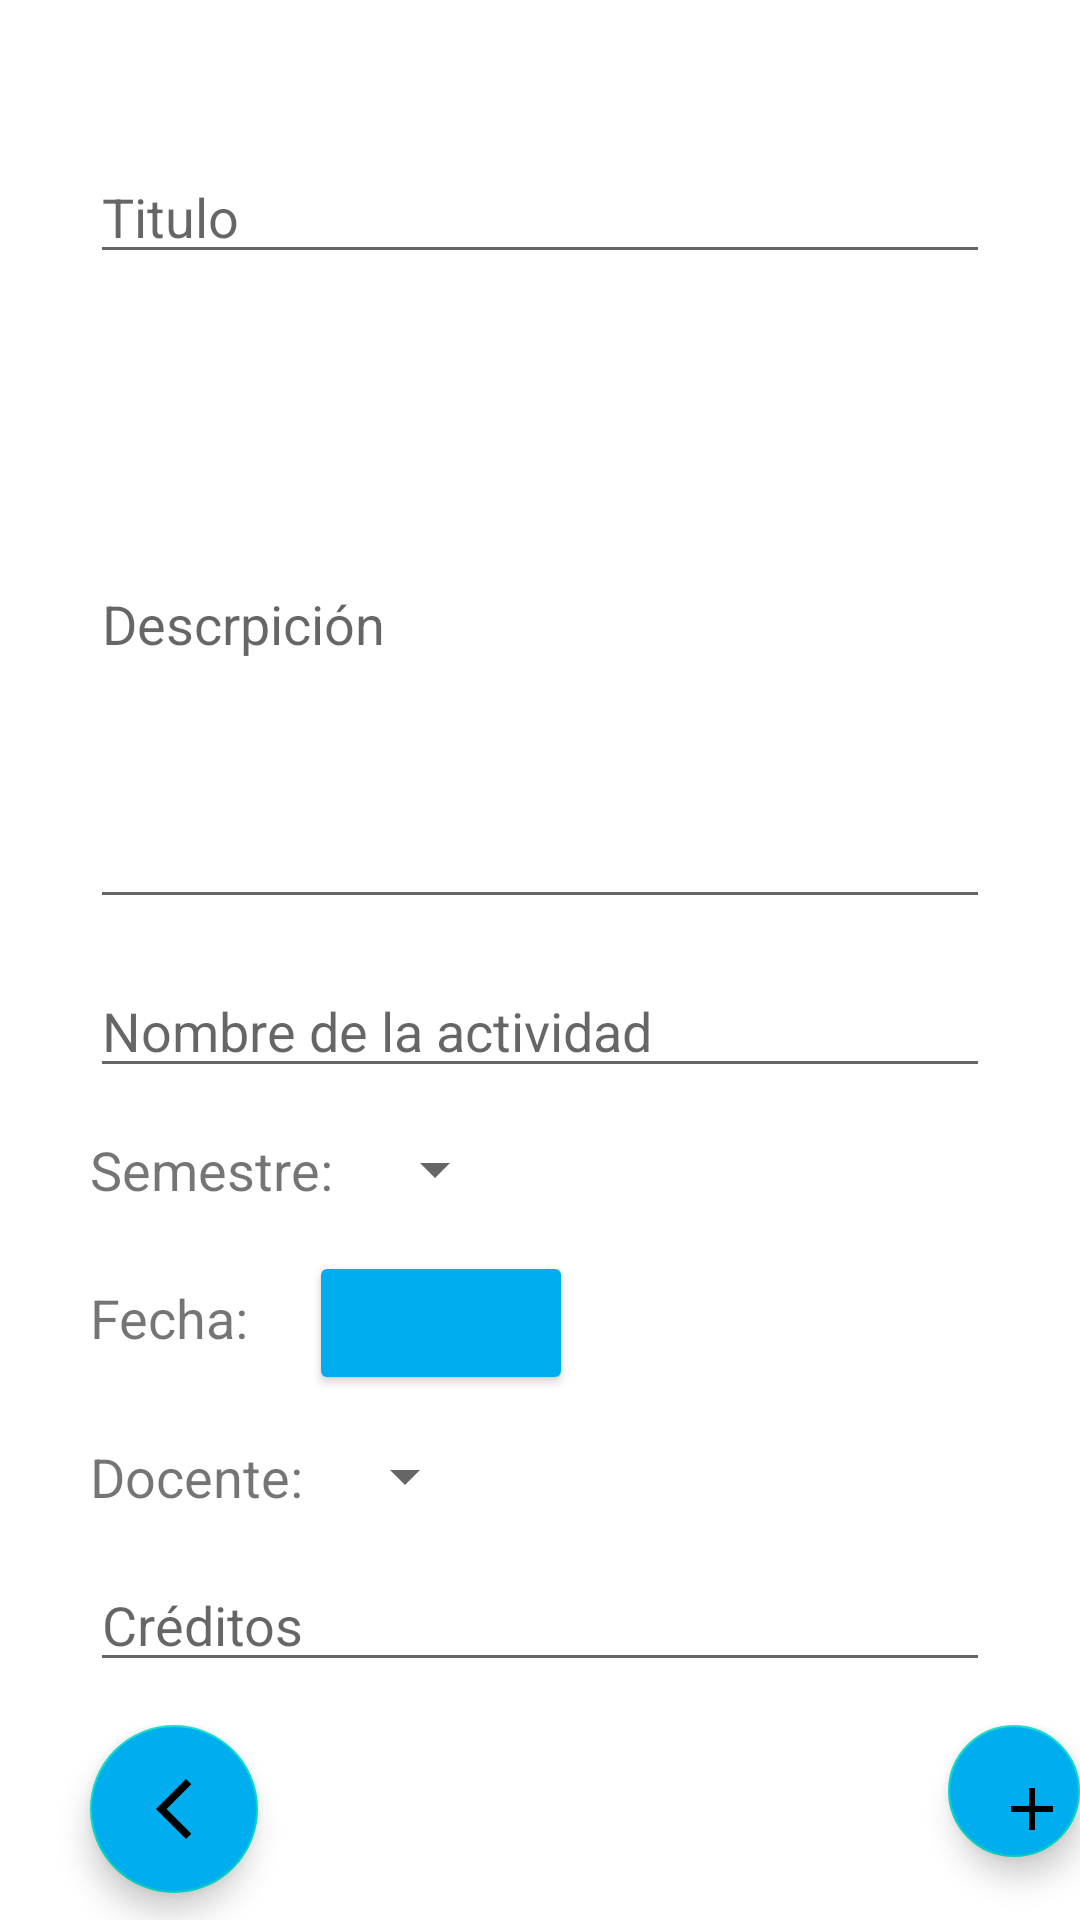

Where to tap for icons on this 1080w x 1920h app screen, as (x,y):
add: (1014,1791)
volver: (174,1809)
